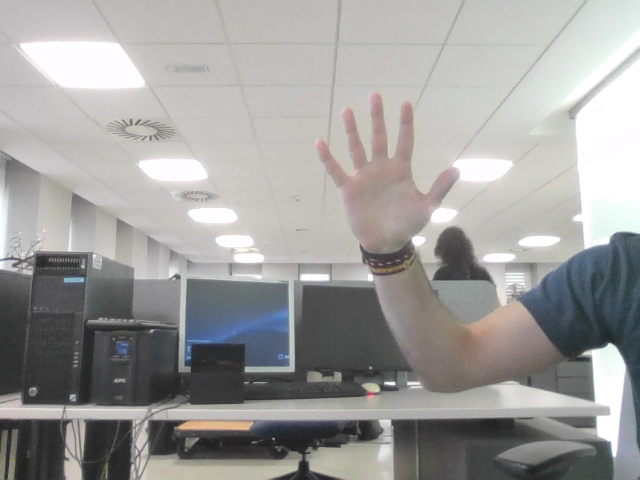Mano Abierta: (326, 105, 444, 221)
